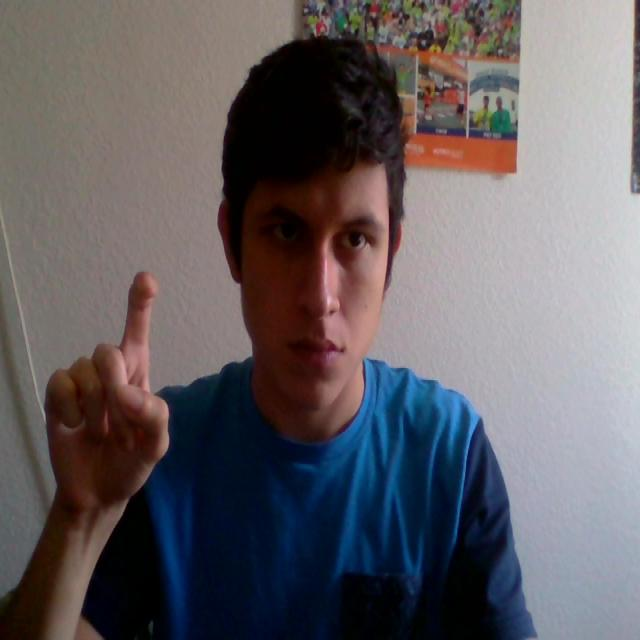X: (22, 234, 216, 525)
